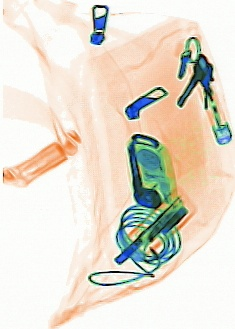lighter: (187, 60, 232, 144)
